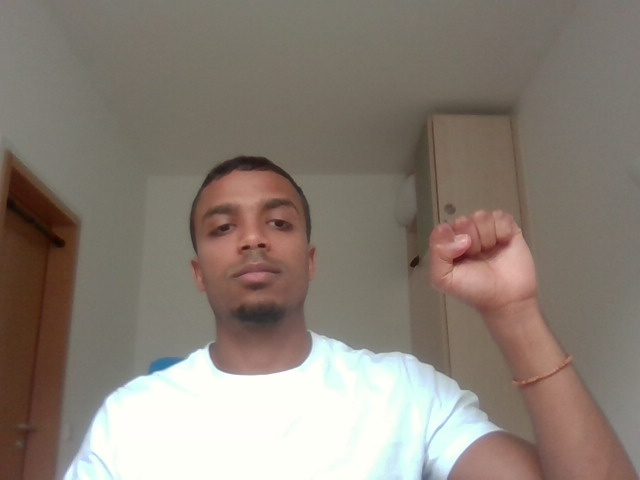neutral: (410, 206, 580, 326)
